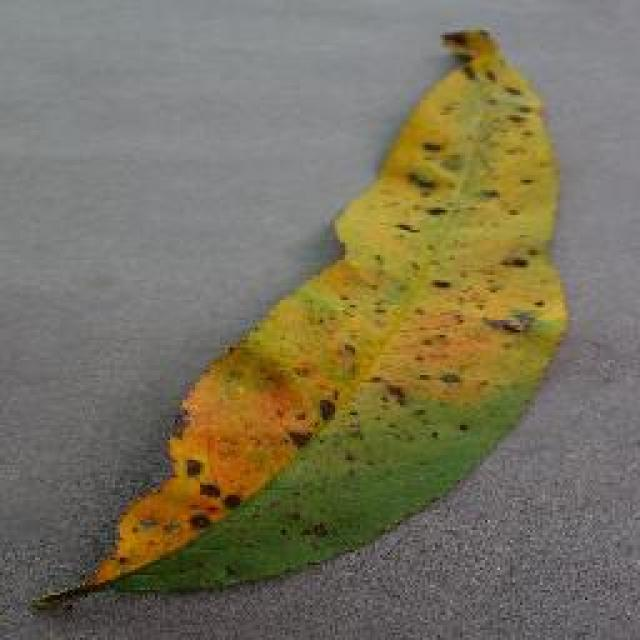Peach_Bacterial_Spot: (267, 162, 510, 470)
